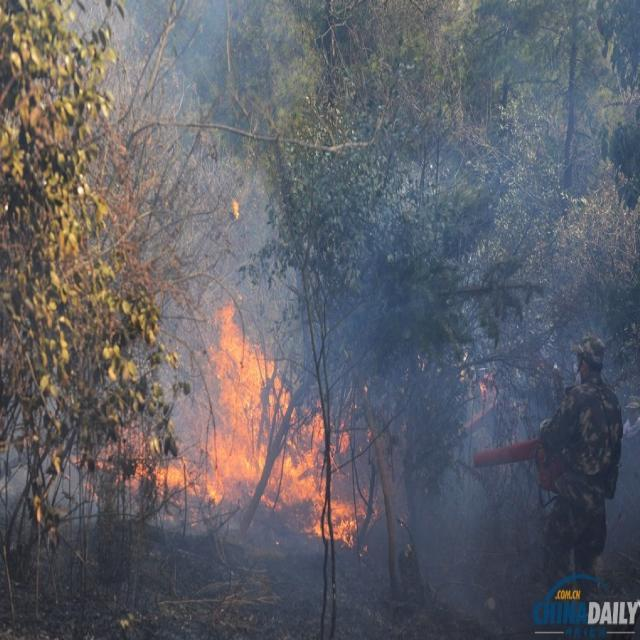Fire: (71, 290, 381, 559)
Smoke: (44, 1, 633, 640), (1, 402, 28, 506)
